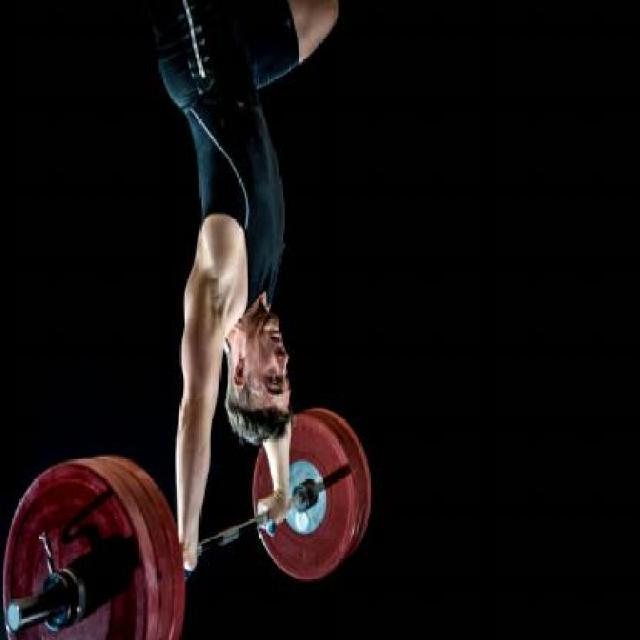Barbell: (2, 596, 27, 636)
